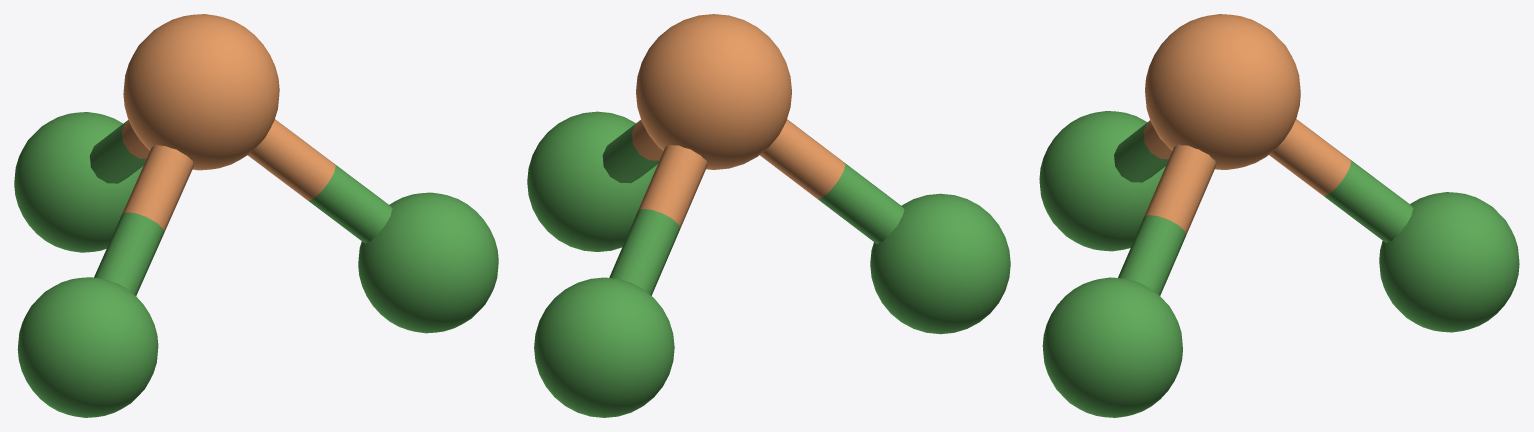
The model's file is PCl3.FBX.
The picture shows the model from 3 angles, left to right: view 1: azimuth 30°, elevation 25°; view 2: azimuth 150°, elevation 25°; view 3: azimuth 270°, elevation 25°; orthographic projection.
Visible parts, largest first — view 1: Sphere012; view 2: Sphere012; view 3: Sphere012.
Part boxes in pixels (x1,y1,x2,y2): Sphere012: (14, 14, 498, 417); Sphere012: (527, 14, 1010, 417); Sphere012: (1039, 14, 1519, 417).
Bounding box in the file's own units: 75.25 × 47.61 × 67.59.
